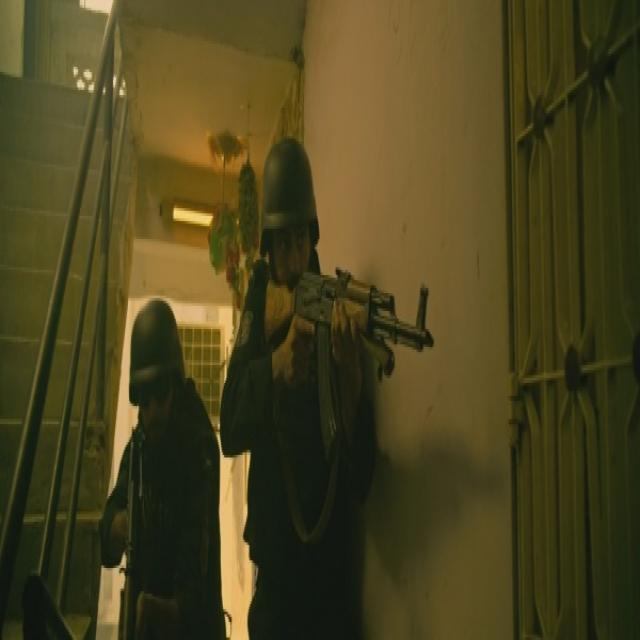weapon: (268, 269, 437, 453), (119, 421, 144, 640)
